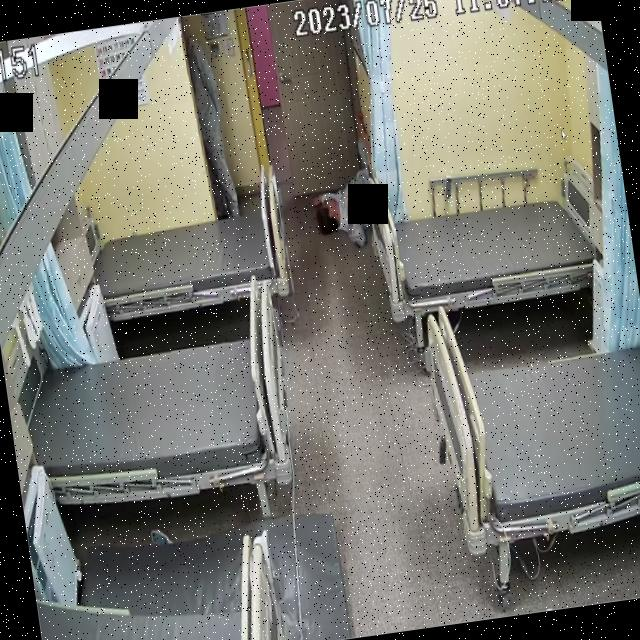bed: (419, 279, 640, 552), (17, 324, 299, 512), (366, 173, 614, 323), (89, 198, 290, 320)
fall: (313, 166, 383, 260)
patient: (183, 12, 245, 220), (311, 162, 383, 262)
stand: (182, 12, 244, 218)
